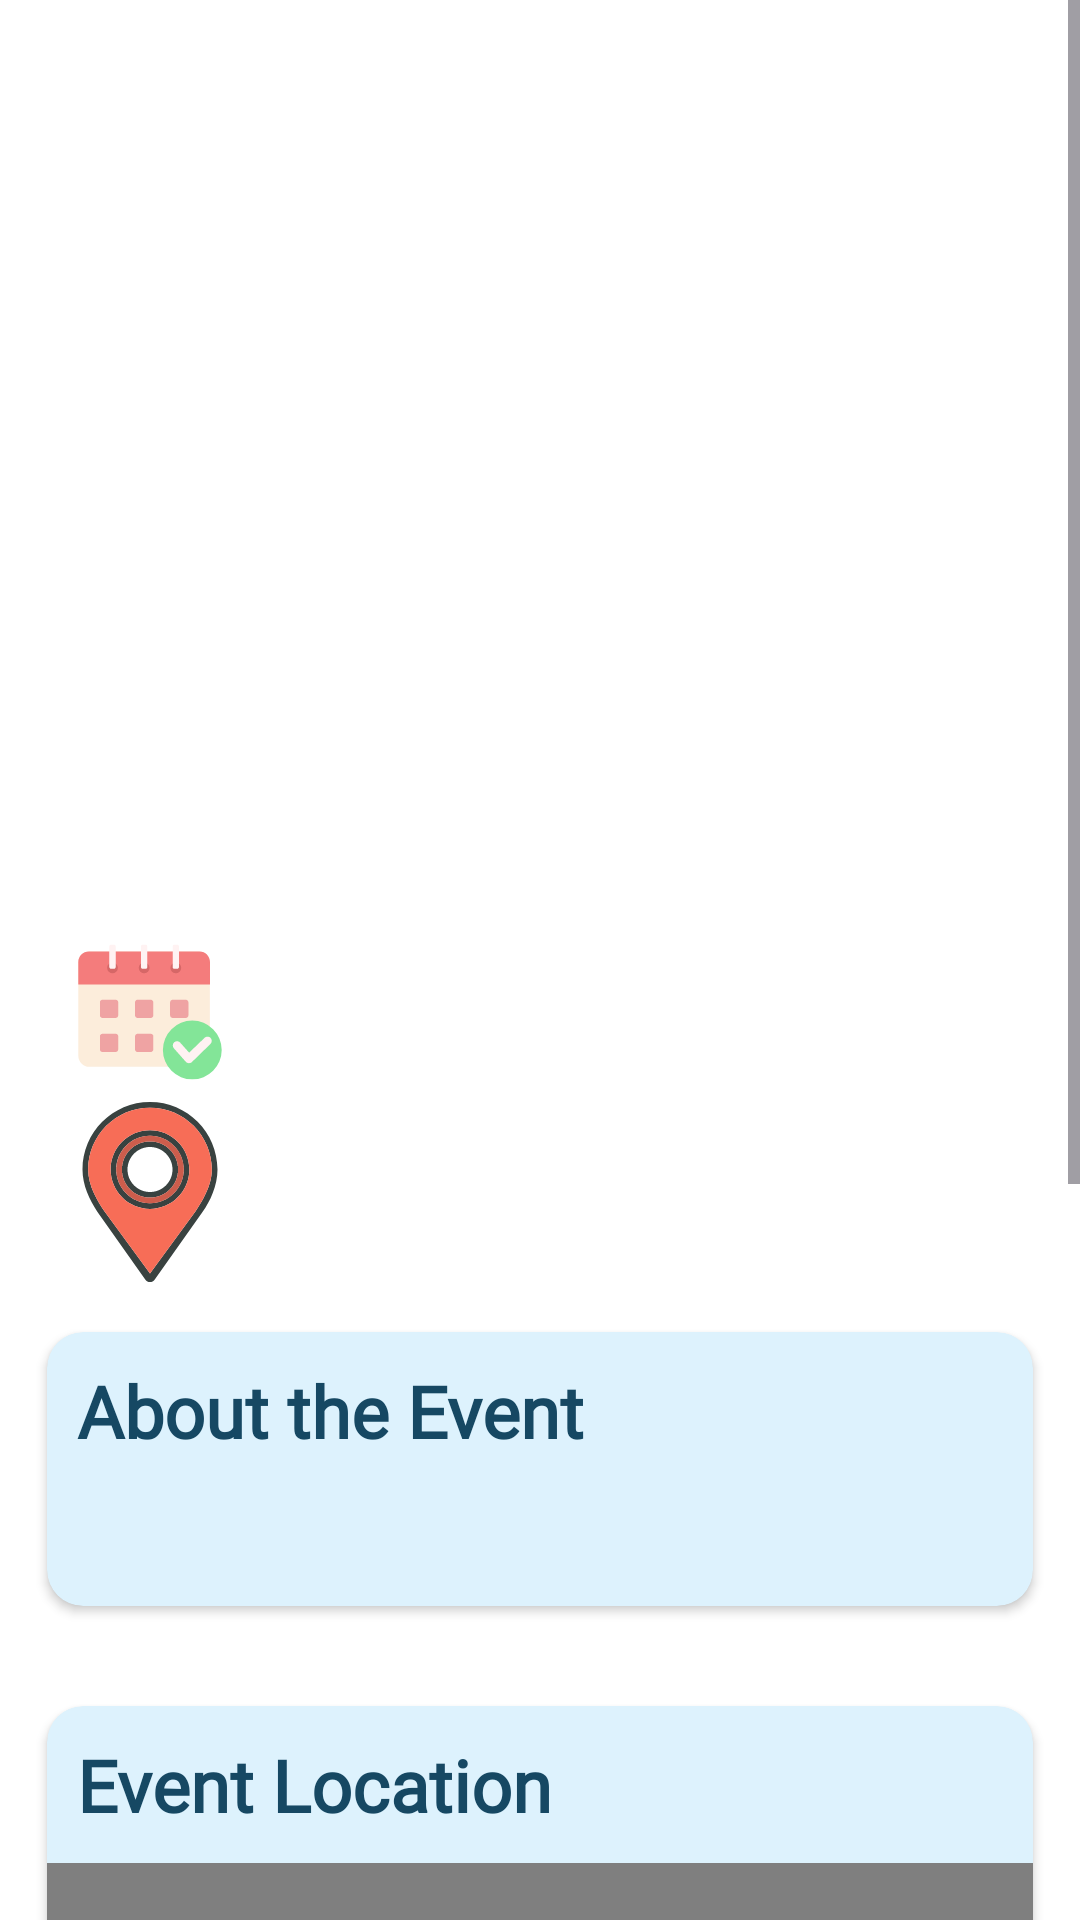

Screen size 1080*1920. Icon name, then its box in pixels as (x1, y1, x2, y2):
calendar date: (78, 951, 222, 1080)
location: (82, 1102, 218, 1282)
